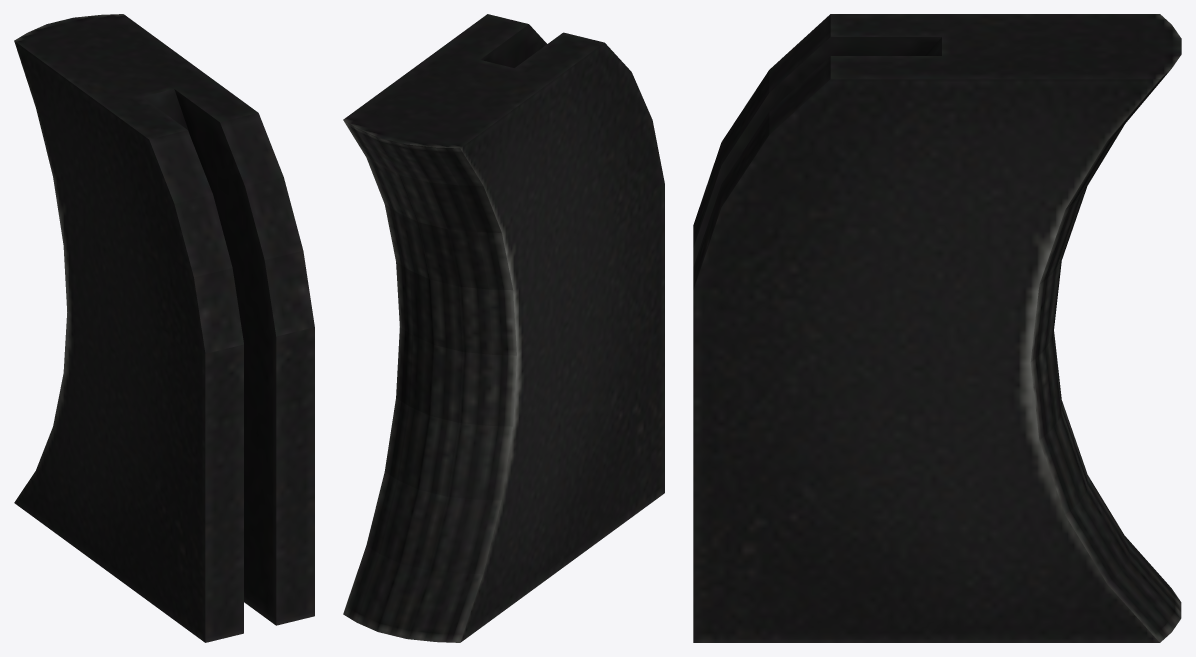
The picture shows the model from 3 angles, left to right: view 1: azimuth 30°, elevation 25°; view 2: azimuth 150°, elevation 25°; view 3: azimuth 270°, elevation 25°; orthographic projection. The views are drawn at different scales.
Visible parts, largest first — view 1: TW_5f3e772a670e2a7b01739a52_PZ_Import; view 2: TW_5f3e772a670e2a7b01739a52_PZ_Import; view 3: TW_5f3e772a670e2a7b01739a52_PZ_Import.
Part boxes in pixels (x1,y1,x2,y2): TW_5f3e772a670e2a7b01739a52_PZ_Import: (14,14,314,642); TW_5f3e772a670e2a7b01739a52_PZ_Import: (343,14,664,642); TW_5f3e772a670e2a7b01739a52_PZ_Import: (693,14,1181,642).
Bounding box in the file's own units: 0.00332 × 0.0105 × 0.0134.
1 material, 1 textured.
